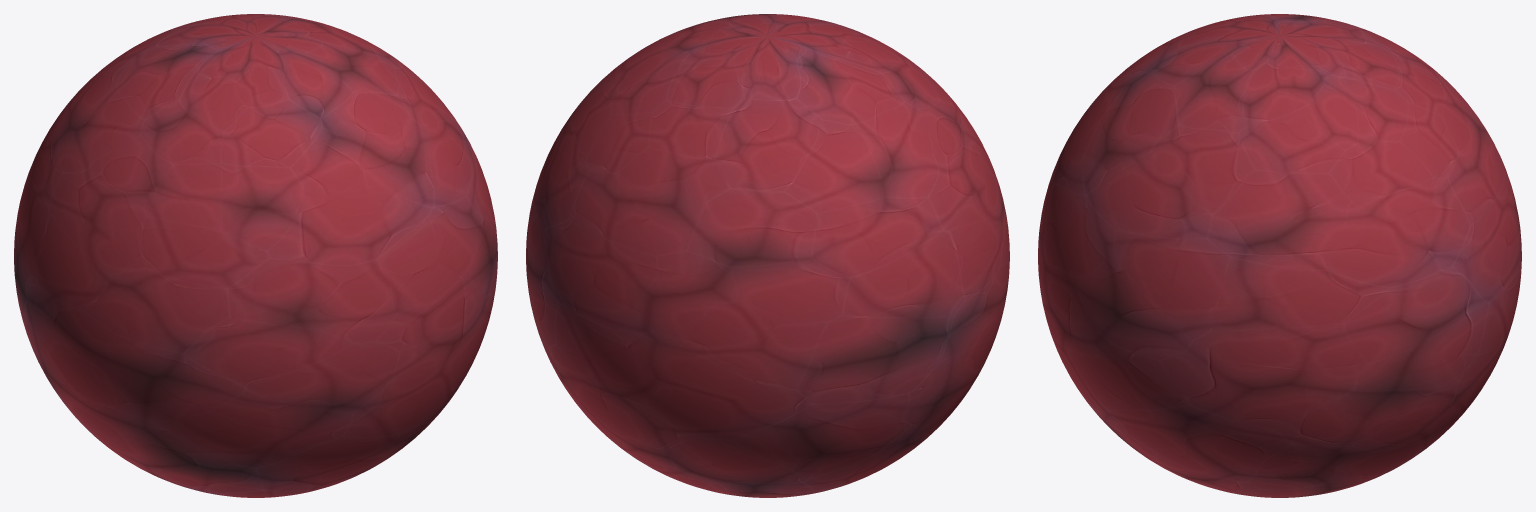
File: stone.glb
3 views of the same model, side by side, from view 1: azimuth 30°, elevation 25°; view 2: azimuth 150°, elevation 25°; view 3: azimuth 270°, elevation 25° (orthographic).
Parts seen in each view (by area): view 1: Sphere001; view 2: Sphere001; view 3: Sphere001.
Boxes of the visible parts, <box> form: Sphere001: <box>14,14,497,497</box>; Sphere001: <box>526,14,1009,497</box>; Sphere001: <box>1038,14,1521,497</box>.
Size of the model in its own units: 95.93 by 95.95 by 95.92.
Materials: 1 (1 with a texture image).
